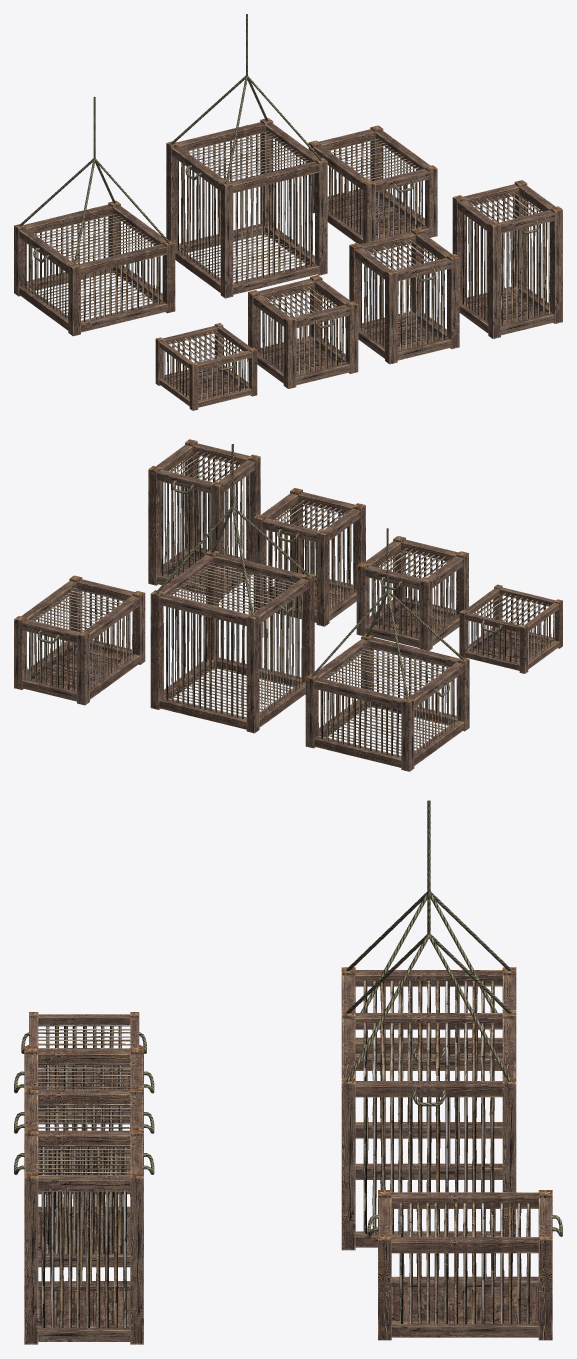
File: Cage.FBX
The picture shows the model from 3 angles, top to bottom: view 1: azimuth 30°, elevation 25°; view 2: azimuth 150°, elevation 25°; view 3: azimuth 270°, elevation 25°; orthographic projection. The views are drawn at different scales.
Visible parts, largest first — view 1: Mesh6, Mesh5, Mesh4, Mesh3, Mesh7, Mesh2, Mesh1; view 2: Mesh6, Mesh5, Mesh7, Mesh4, Mesh3, Mesh2, Mesh1; view 3: Mesh6, Mesh7, Mesh4, Mesh5, Mesh3, Mesh2, Mesh1.
Part boxes in pixels (x1,y1,x2,y2): Mesh6: (166, 14, 327, 298); Mesh5: (14, 96, 175, 336); Mesh4: (452, 180, 562, 338); Mesh3: (349, 228, 459, 364); Mesh7: (308, 125, 437, 244); Mesh2: (248, 275, 358, 388); Mesh1: (155, 323, 257, 410); Mesh6: (150, 444, 314, 733); Mesh5: (305, 528, 469, 771); Mesh7: (14, 575, 145, 705); Mesh4: (148, 439, 260, 600); Mesh3: (253, 488, 365, 626); Mesh2: (356, 536, 468, 650); Mesh1: (459, 584, 562, 673); Mesh6: (341, 843, 516, 1250); Mesh7: (367, 1190, 562, 1340); Mesh4: (14, 1127, 154, 1344); Mesh5: (341, 800, 516, 1138); Mesh3: (14, 1086, 154, 1267); Mesh2: (14, 1046, 154, 1196); Mesh1: (21, 1012, 146, 1122).
Bounding box in the file's own units: 3.61 × 2.23 × 2.99.
